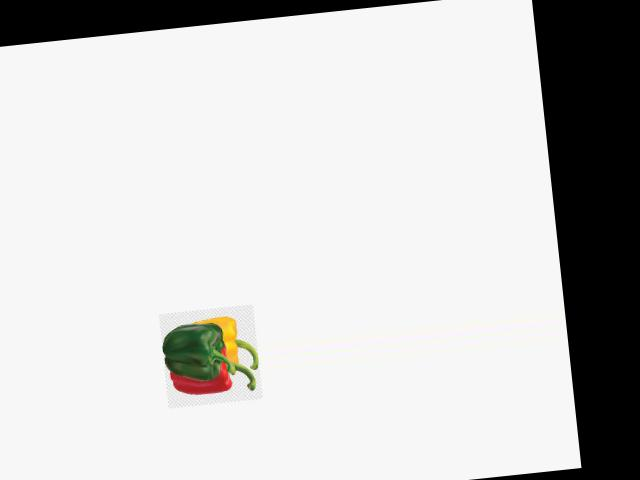bell_pepper: (165, 345, 259, 408)
